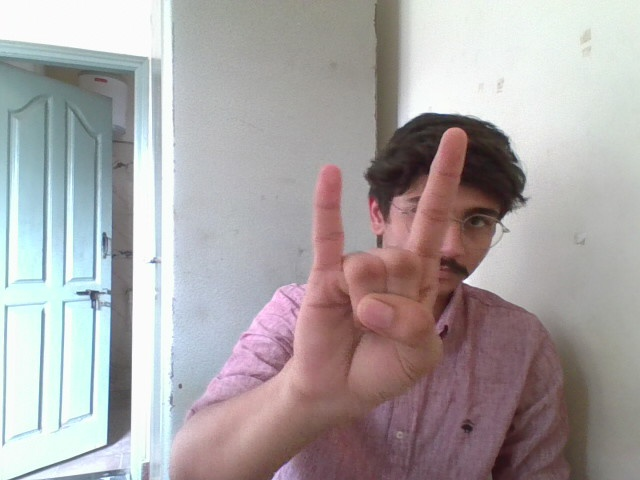iloveyou: (302, 124, 465, 408)
